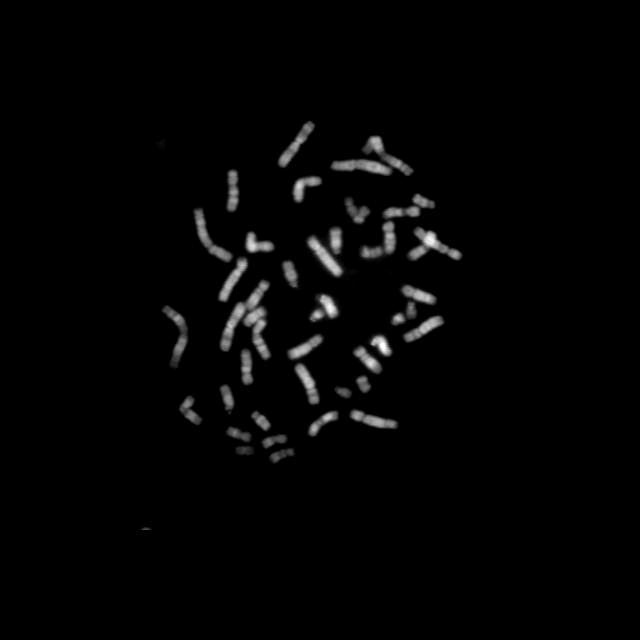chromosome: (195, 208, 233, 262), (362, 136, 414, 174), (278, 121, 314, 167), (162, 308, 188, 367), (413, 228, 461, 258), (218, 302, 245, 352), (309, 236, 341, 278), (218, 258, 246, 300), (405, 314, 443, 342), (294, 363, 318, 405), (352, 409, 396, 429), (331, 160, 391, 174), (354, 347, 382, 375), (408, 230, 434, 260), (288, 336, 322, 358), (252, 318, 270, 359), (246, 280, 269, 310), (294, 177, 320, 203), (309, 412, 336, 436), (180, 396, 202, 424), (402, 286, 436, 304), (345, 198, 369, 222), (246, 232, 274, 252), (382, 205, 420, 219), (280, 261, 298, 289), (243, 306, 265, 328), (318, 294, 338, 318), (371, 334, 392, 356), (227, 171, 238, 211), (241, 348, 253, 384), (382, 222, 396, 252), (262, 434, 288, 448), (226, 427, 252, 441), (252, 410, 270, 430), (271, 449, 293, 465), (221, 386, 235, 410), (362, 244, 382, 260), (414, 195, 436, 209), (331, 228, 342, 255), (334, 386, 352, 399), (389, 313, 405, 327), (357, 376, 371, 392), (234, 446, 254, 456), (308, 310, 324, 322), (406, 302, 416, 320)
